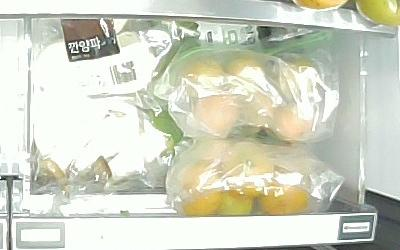tangerine_vinyl: (220, 143, 275, 200), (174, 161, 222, 217), (268, 97, 319, 143), (274, 56, 324, 102), (175, 56, 225, 99), (191, 93, 237, 139), (258, 178, 312, 215), (226, 55, 270, 98)
